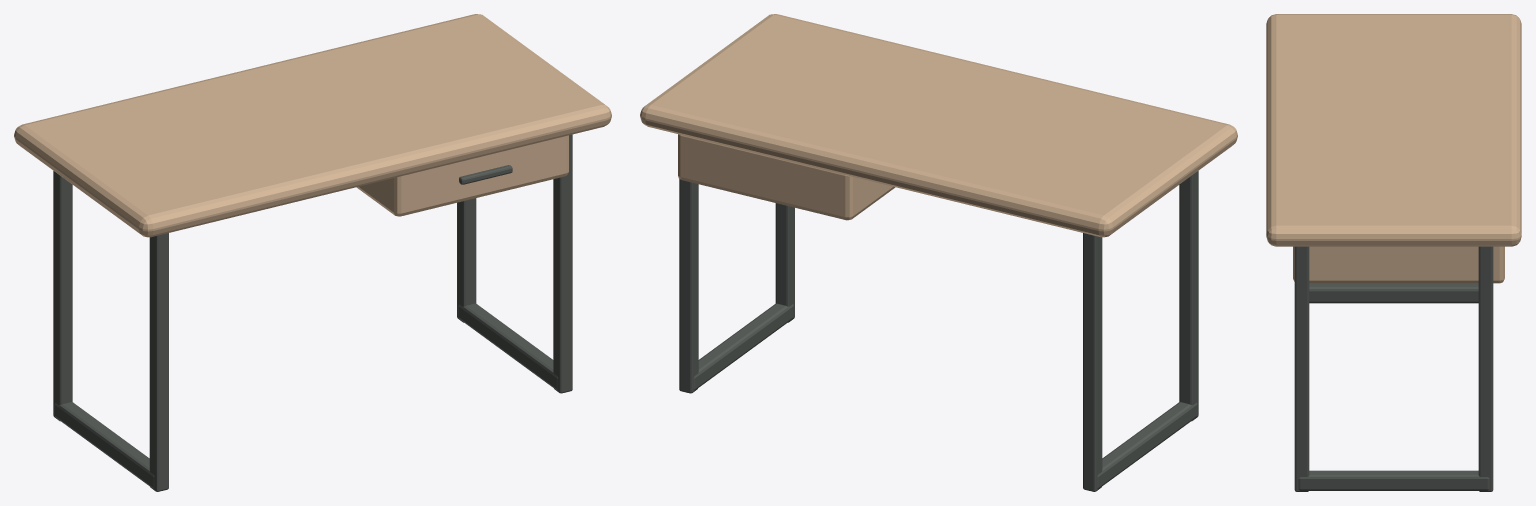
The model's file is table-writing.glb.
3 renders of one model, left to right at view 1: azimuth 30°, elevation 25°; view 2: azimuth 150°, elevation 25°; view 3: azimuth 270°, elevation 25°, orthographic. The views are drawn at different scales.
Visible parts, largest first — view 1: table-writing; view 2: table-writing; view 3: table-writing.
Boxes of the visible parts, x1,y1,x2,y2 form: table-writing: [14, 14, 611, 491]; table-writing: [640, 14, 1237, 491]; table-writing: [1266, 14, 1521, 491].
Bounding box in the file's own units: 1.28 × 0.75 × 0.63.
